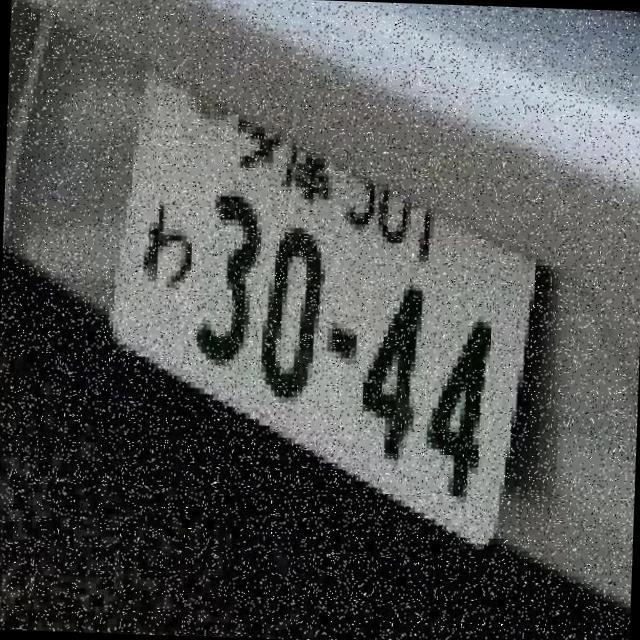License Plate: (92, 26, 540, 556)
